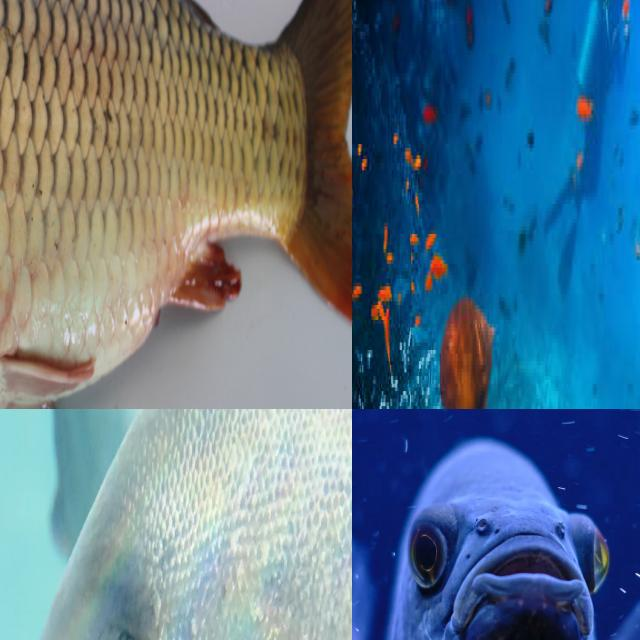fish: (0, 0, 352, 409), (0, 428, 334, 640), (352, 512, 631, 640), (560, 121, 640, 406)
